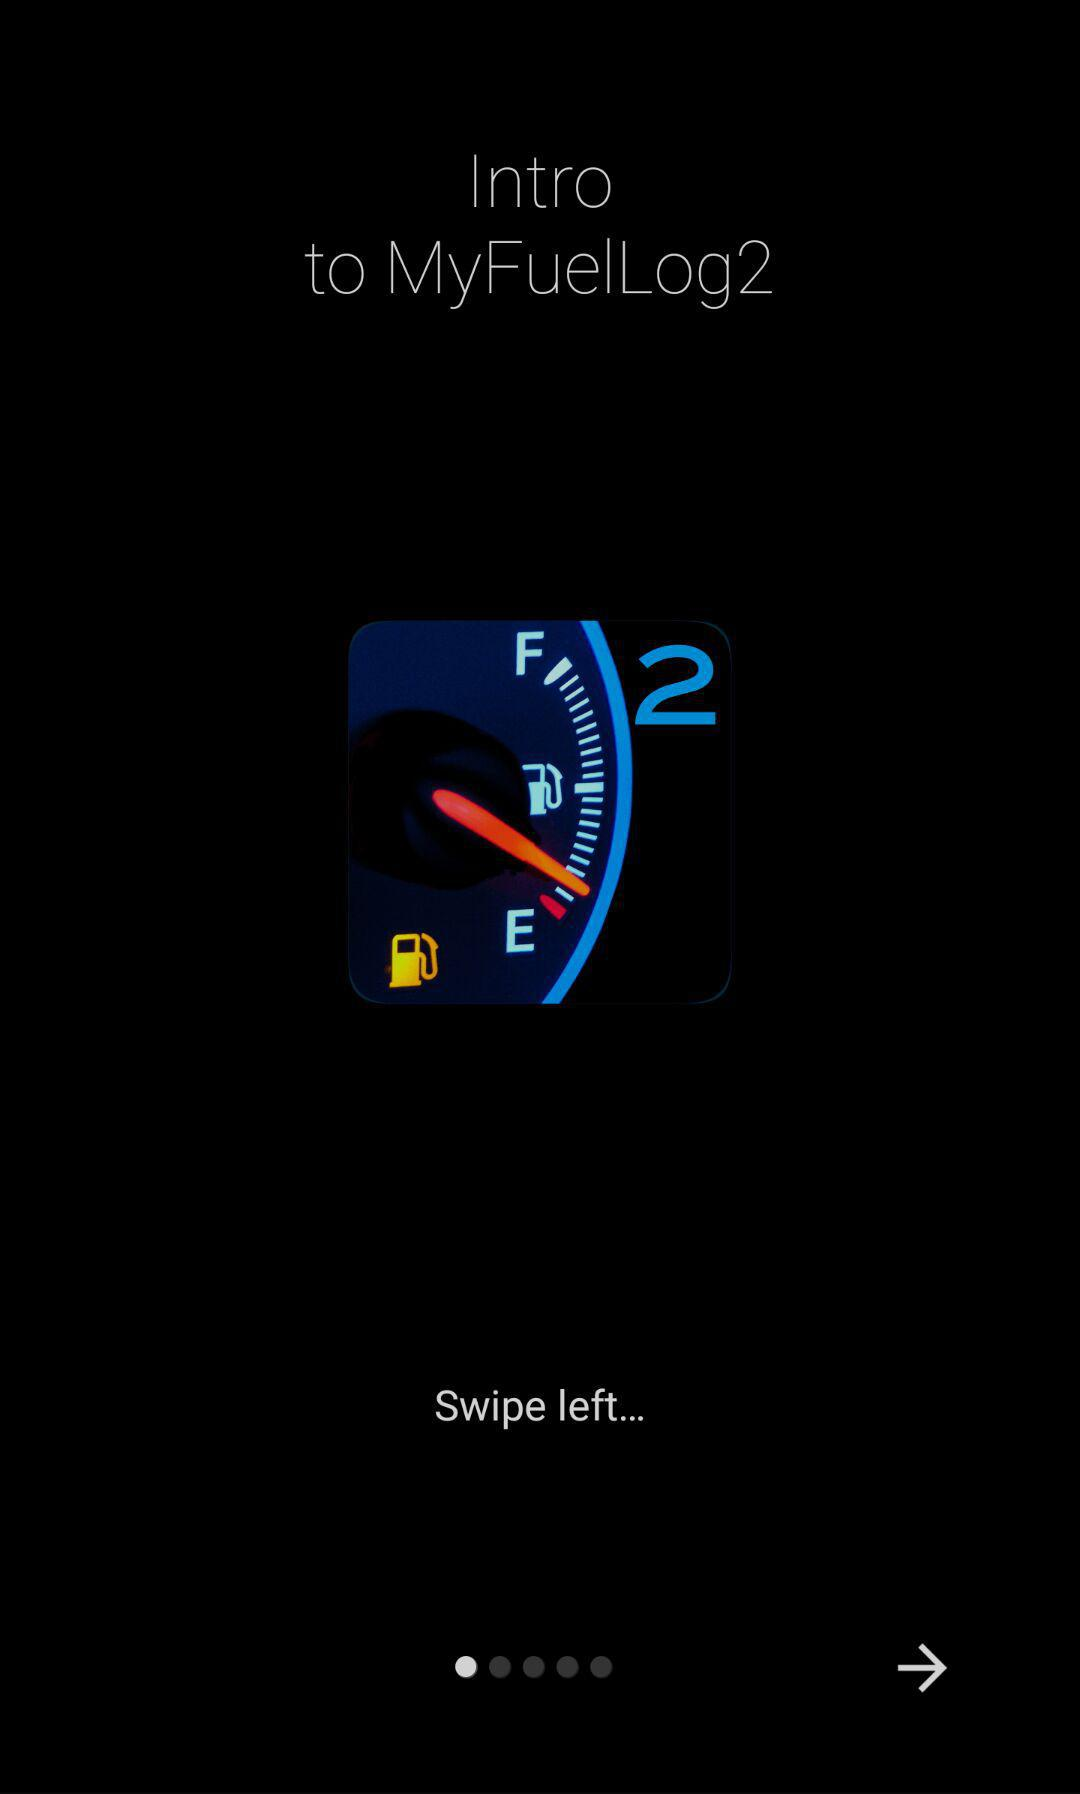Icon: (898, 1644, 948, 1694)
Image: (348, 621, 738, 1003)
PageIndicator: (454, 1656, 614, 1680)
Text: (304, 240, 774, 311), (436, 1387, 646, 1431), (473, 154, 612, 211)
